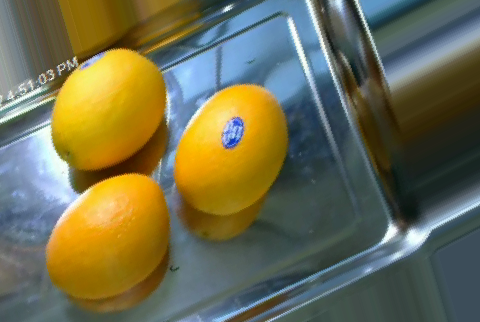Orange: (43, 172, 168, 300), (172, 82, 287, 217), (49, 47, 166, 169)
